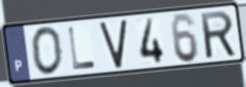4: (138, 16, 166, 66)
6: (169, 11, 201, 64)
L: (66, 26, 97, 72)
O: (29, 25, 65, 77)
R: (198, 9, 239, 61)
V: (98, 17, 129, 70)
